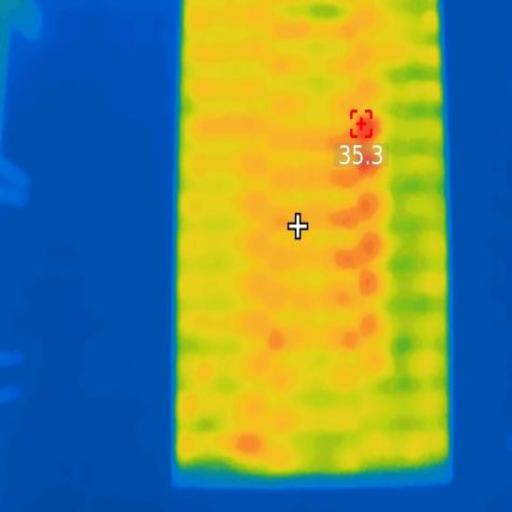hotspot: (354, 105, 382, 174)
